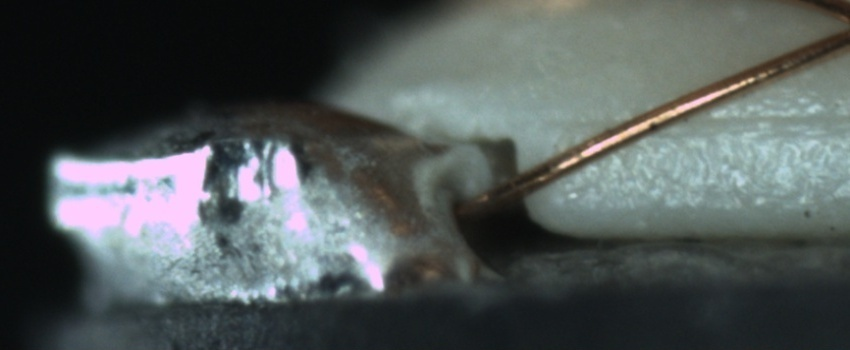DL: (560, 91, 850, 151)
